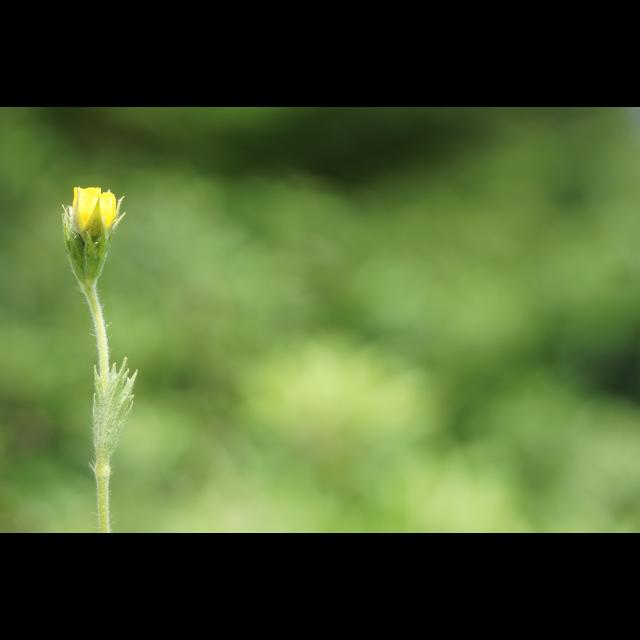Flower: (59, 185, 119, 282)
